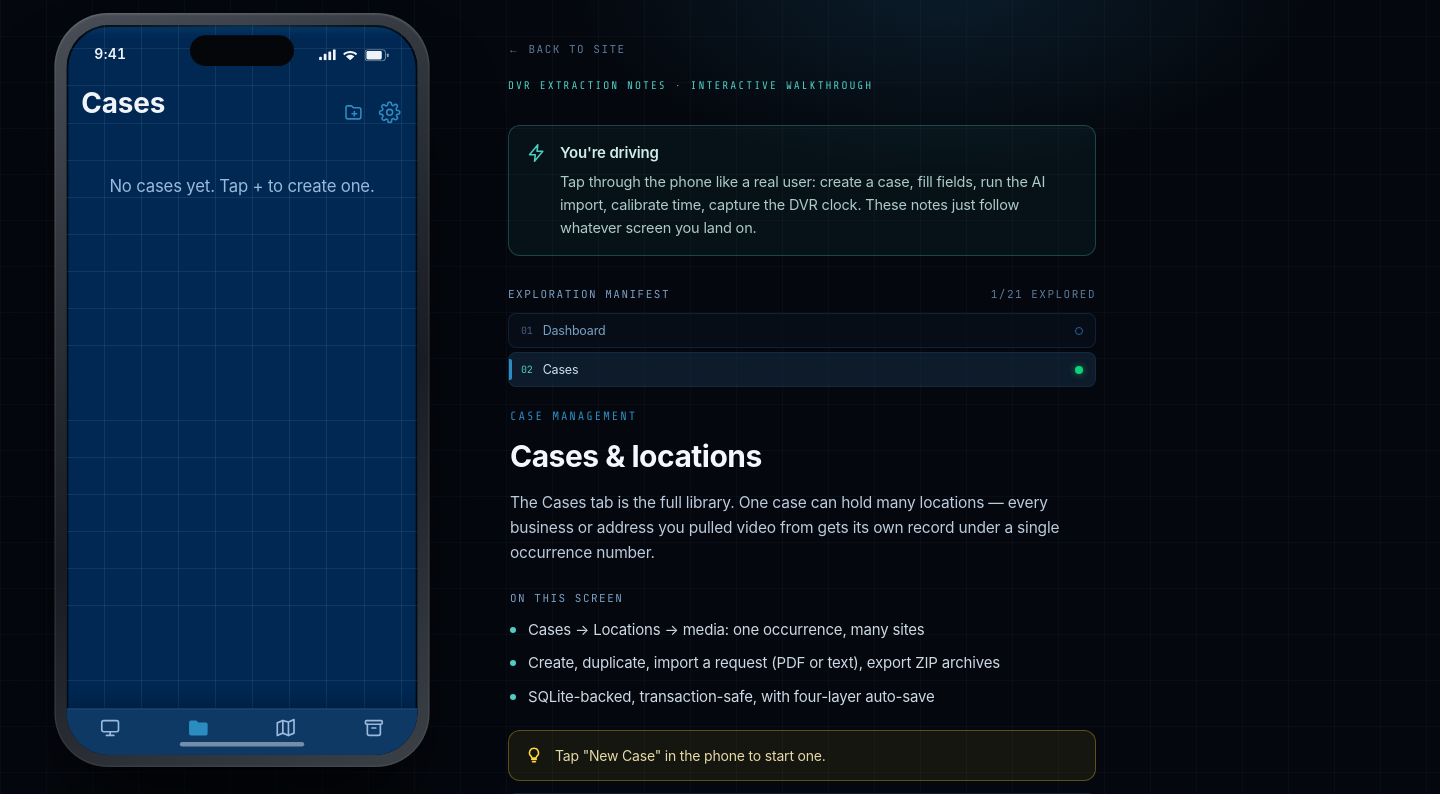
Test: refresh survival (v7) › withdraws it when there is no persistence at all [R-3]
The image size is (1440, 794).
Click the button with test id "header-settings-button" at {"x": 390, "y": 112}, box [377, 99, 403, 125]
(page scrolled)
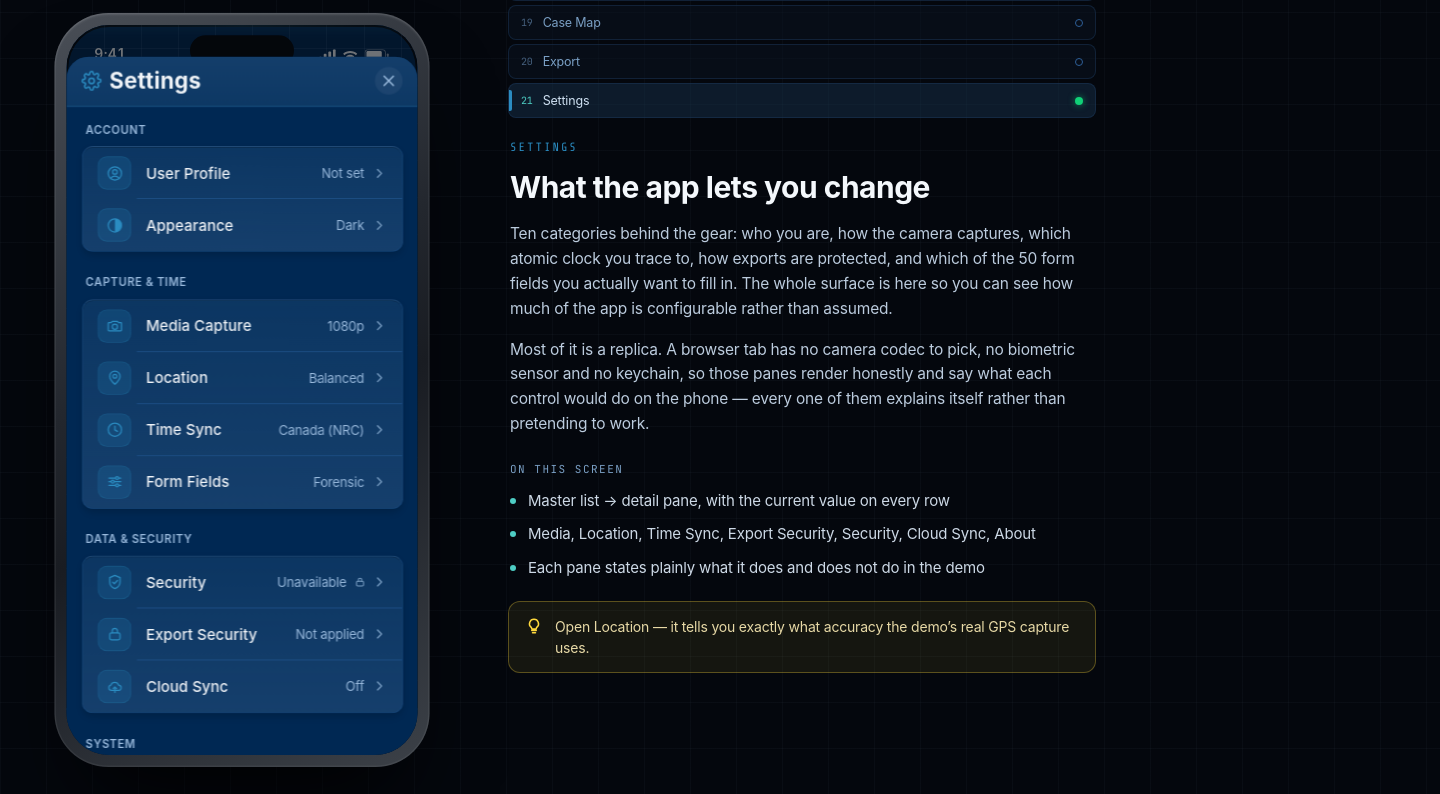
Click the button with test id "settings-row-user-profile" at {"x": 114, "y": 173}, box [82, 147, 402, 199]
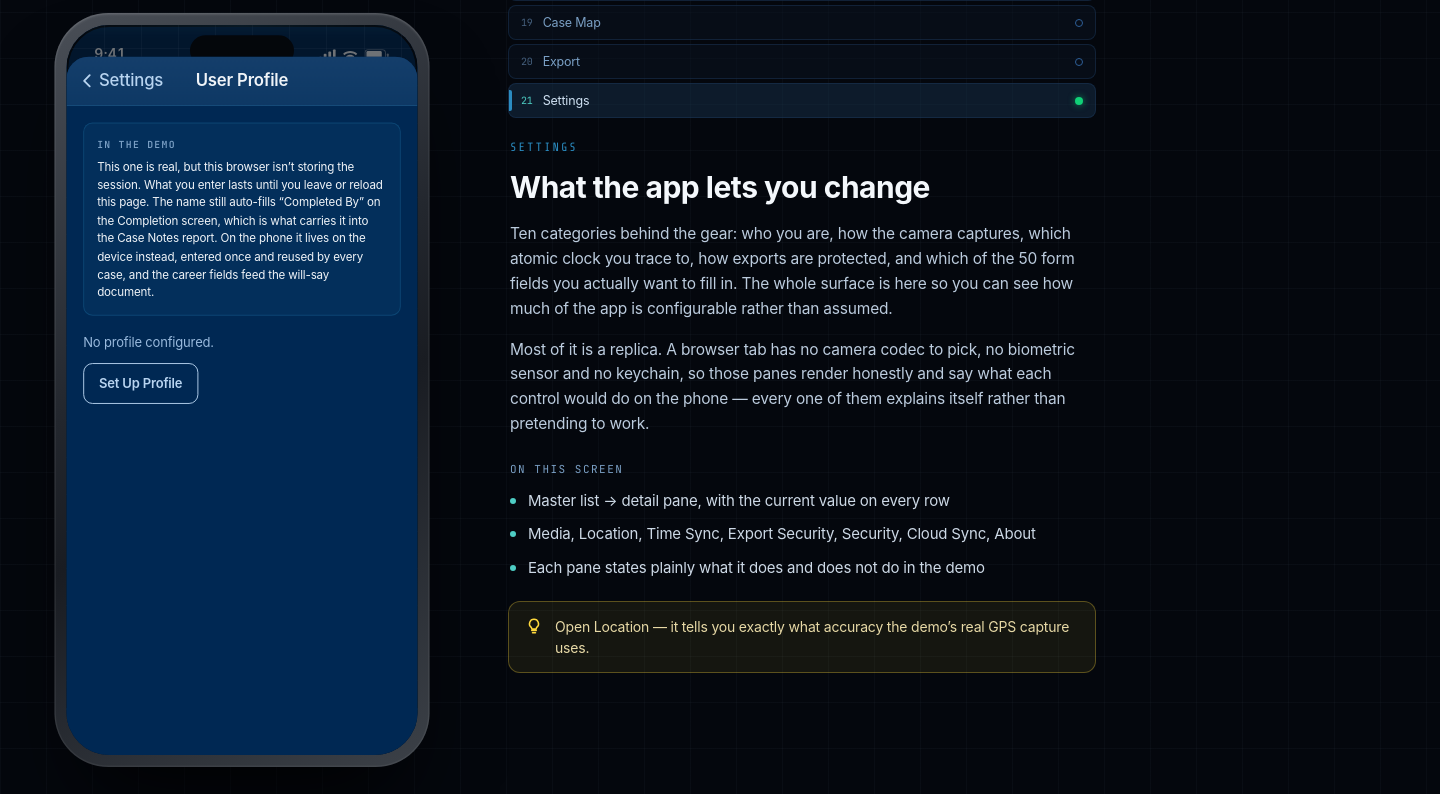
Expected: the element with test id "settings-pane-stub-note" does not show "kept for this browser tab", [83, 122, 401, 315]
Now the element with test id "settings-pane-stub-note" shows "isn’t storing the session", box [97, 159, 383, 209]
